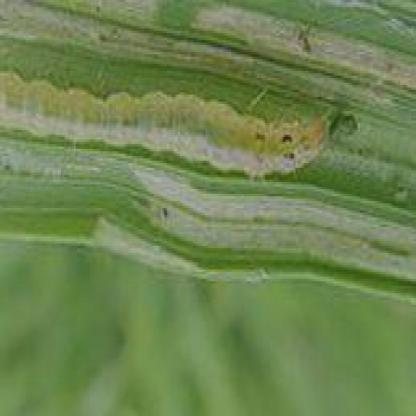leaf-folder: (0, 51, 348, 184)
